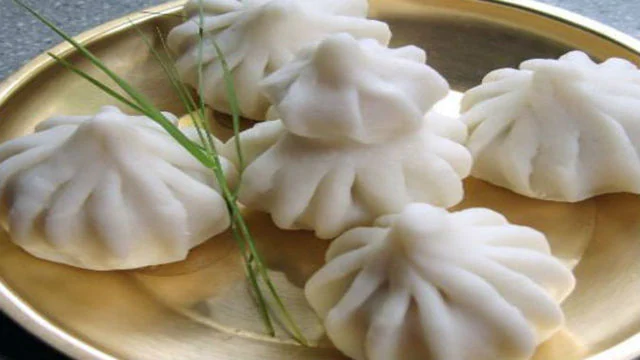modak: (302, 194, 561, 360), (6, 108, 250, 261), (436, 35, 640, 198), (269, 49, 458, 138)
